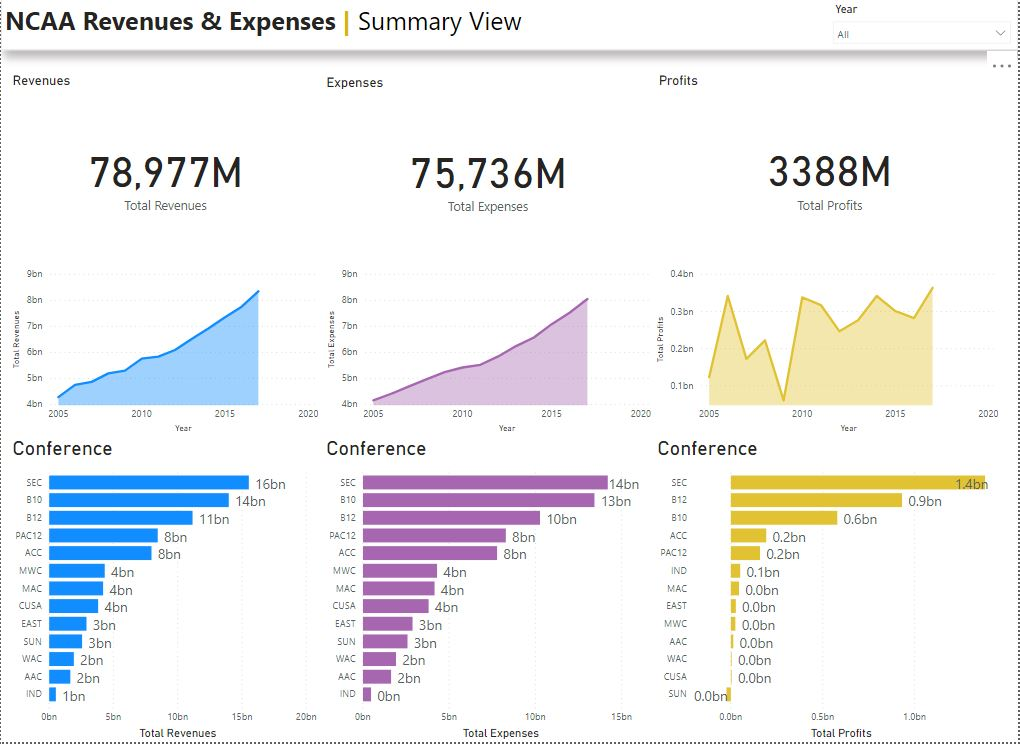

This screenshot's page, from the dashboard's own definition file:
{"tool":"powerbi","page":{"name":"Summary View","canvas":[1300,950],"ordinal":0},"visuals":[{"type":"card","title":"Revenues","fields":{"Values":["Sum(finances_fact.Total Revenues)"]},"box":[9.6,94.2,400.8,242.7],"z":0},{"type":"card","title":"Expenses","fields":{"Values":["Sum(finances_fact.Total Expenses)"]},"box":[410.3,95.8,423.1,241.1],"z":1000},{"type":"card","title":"Profits","fields":{"Values":["finances_fact.Total Profits"]},"box":[835,94.2,447.1,241.1],"z":2000},{"type":"areaChart","fields":{"Category":["finances_fact.Year"],"Y":["Sum(finances_fact.Total Revenues)"]},"box":[9.6,336.9,400.8,221.9],"z":3000},{"type":"areaChart","fields":{"Category":["finances_fact.Year"],"Y":["Sum(finances_fact.Total Expenses)"]},"box":[411.9,336.9,423.1,221.9],"z":4000},{"type":"areaChart","fields":{"Category":["finances_fact.Year"],"Y":["finances_fact.Total Profits"]},"box":[831.8,336.9,447.1,221.9],"z":5000},{"type":"barChart","title":"Conference","fields":{"Category":["conference_dim.Conference Abb"],"Y":["Sum(finances_fact.Total Revenues)"]},"box":[9.6,558.8,399.2,391.2],"z":6000},{"type":"barChart","title":"Conference","fields":{"Category":["conference_dim.Conference Abb"],"Y":["Sum(finances_fact.Total Expenses)"]},"box":[410.3,558.8,423.1,391.2],"z":7000},{"type":"barChart","title":"Conference","fields":{"Y":["finances_fact.Total Profits"],"Category":["conference_dim.Conference Abb"]},"box":[833.4,558.8,447.1,391.2],"z":8000},{"type":"textbox","box":[0,0,1299.7,65.5],"z":9000},{"type":"slicer","fields":{"Values":["finances_fact.Year"]},"box":[1052.2,0,247.5,65.5],"z":9001}]}

Visuals, with their boxes in screenshot pixels (x1, y1, x2, y2), scaled from the page's 1300x950 canvas onto the 1020x746 screenshot:
"Revenues" card: select_region(8, 74, 322, 265)
"Expenses" card: select_region(322, 75, 654, 265)
"Profits" card: select_region(655, 74, 1006, 263)
areaChart - finances_fact.Year x Sum(finances_fact.Total Revenues): select_region(8, 265, 322, 439)
areaChart - finances_fact.Year x Sum(finances_fact.Total Expenses): select_region(323, 265, 655, 439)
areaChart - finances_fact.Year x finances_fact.Total Profits: select_region(653, 265, 1003, 439)
"Conference" barChart: select_region(8, 439, 321, 745)
"Conference" barChart: select_region(322, 439, 654, 745)
"Conference" barChart: select_region(654, 439, 1005, 745)
textbox: select_region(0, 0, 1019, 51)
slicer - finances_fact.Year: select_region(826, 0, 1019, 51)
